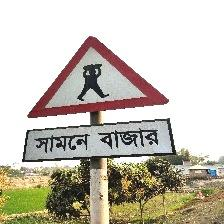Market-in-front: (25, 35, 174, 156)
